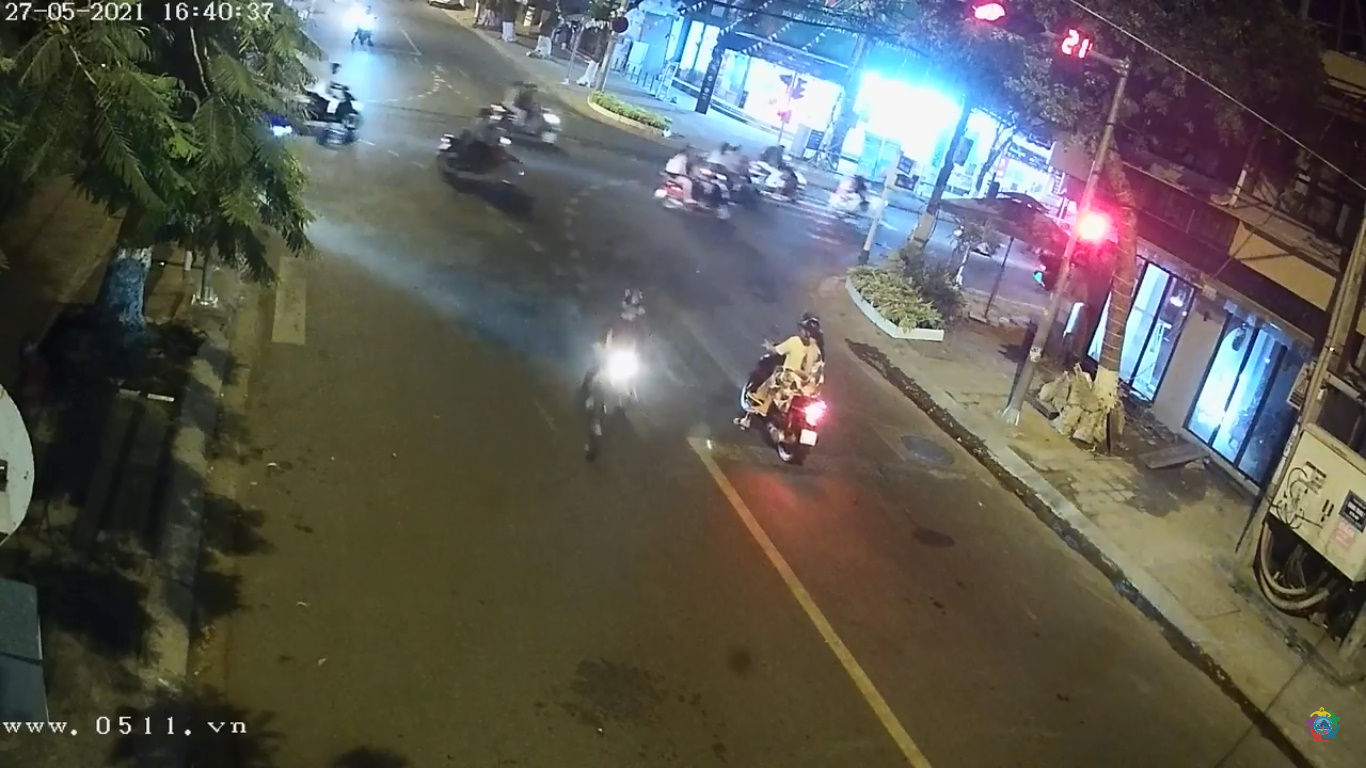motorbike: (554, 284, 667, 471)
